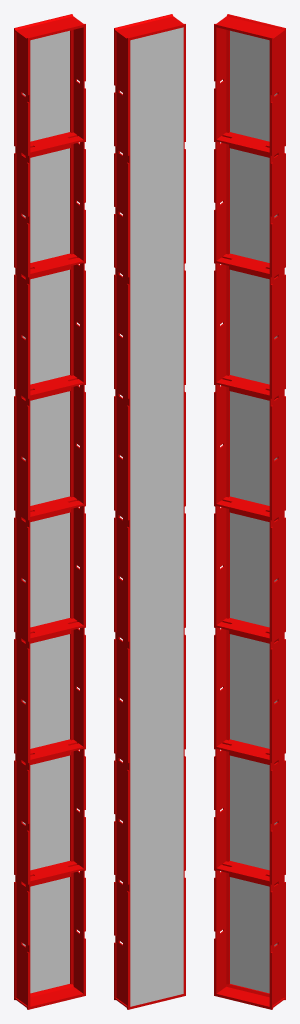
3 renders of one model, left to right at view 1: azimuth 30°, elevation 25°; view 2: azimuth 210°, elevation 25°; view 3: azimuth 330°, elevation 25°, orthographic.
Visible parts, largest first — view 1: Sp-6X8, Sp-6X8-P; view 2: Sp-6X8-P, Sp-6X8; view 3: Sp-6X8, Sp-6X8-P.
Boxes of the visible parts, left/top/right/bottom form: Sp-6X8: left=14, top=14, right=85, bottom=1009; Sp-6X8-P: left=22, top=30, right=69, bottom=993; Sp-6X8-P: left=130, top=27, right=183, bottom=1006; Sp-6X8: left=114, top=14, right=185, bottom=1009; Sp-6X8: left=214, top=14, right=285, bottom=1009; Sp-6X8-P: left=230, top=30, right=277, bottom=993.
Size of the model in its own units: 6 by 96 by 2.5.
